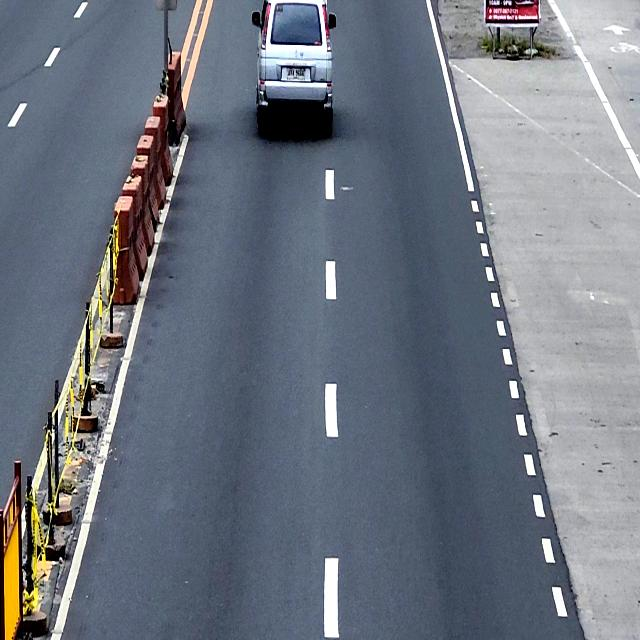Car: (251, 0, 336, 135)
License-Plate: (286, 64, 306, 82)
